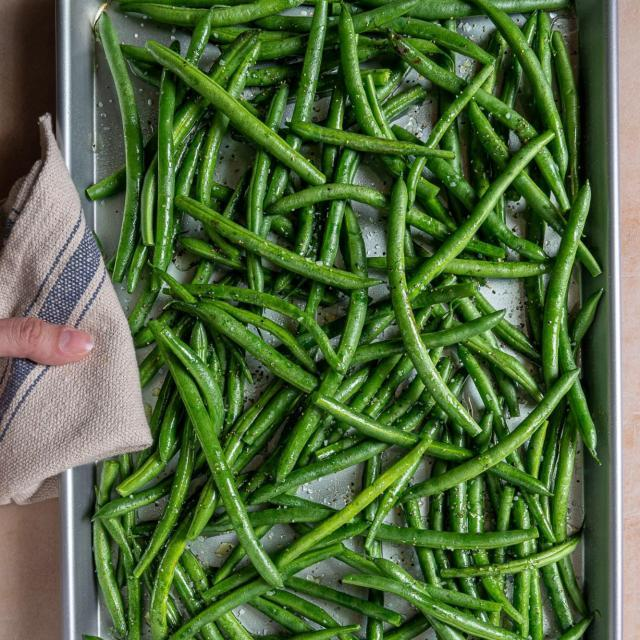Beans: (77, 0, 606, 639)
